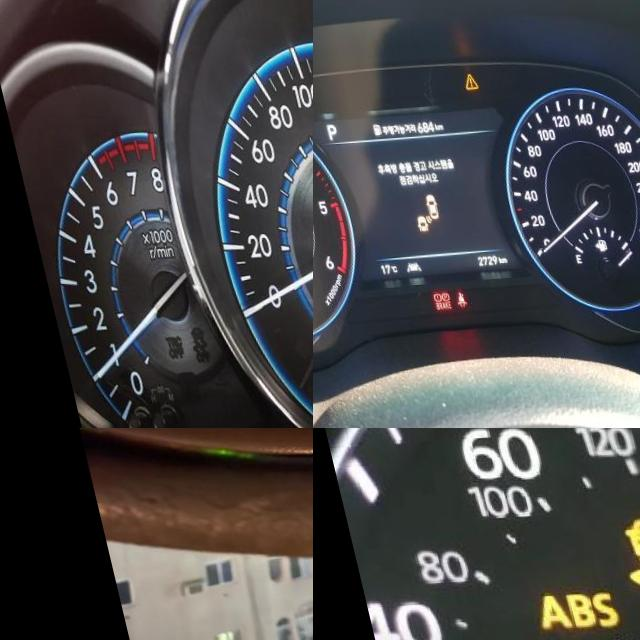Central Warning lamp: (453, 79, 469, 95)
LaneCenteringOff: (387, 265, 403, 276)
